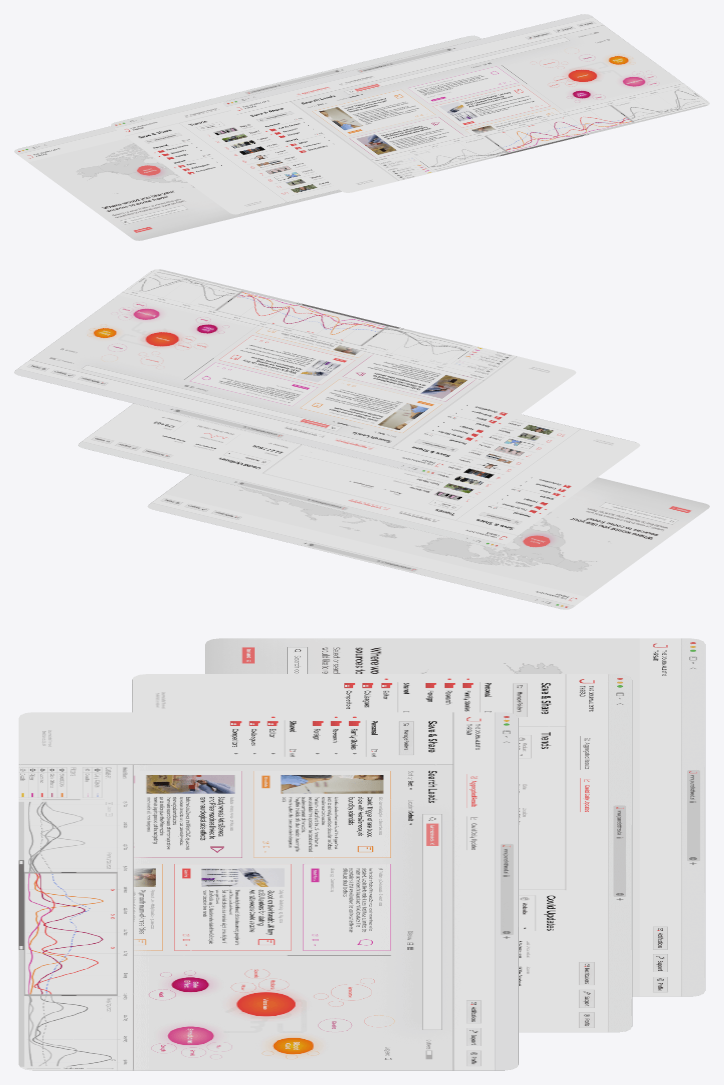
Rendered from tjt.glb.
3 views of the same model, one above another, from view 1: azimuth 30°, elevation 25°; view 2: azimuth 150°, elevation 25°; view 3: azimuth 270°, elevation 25° (orthographic). The views are drawn at different scales.
Parts seen in each view (by area): view 1: Plane.001; view 2: Plane.001; view 3: Plane.001.
Boxes of the visible parts, box(x1,y1,x2,y2) form: Plane.001: box(14, 14, 709, 240); Plane.001: box(14, 269, 709, 609); Plane.001: box(18, 638, 705, 1070).
Bounding box in the file's own units: 4.89 × 0.3735 × 2.75.
3 materials, 3 textured.
